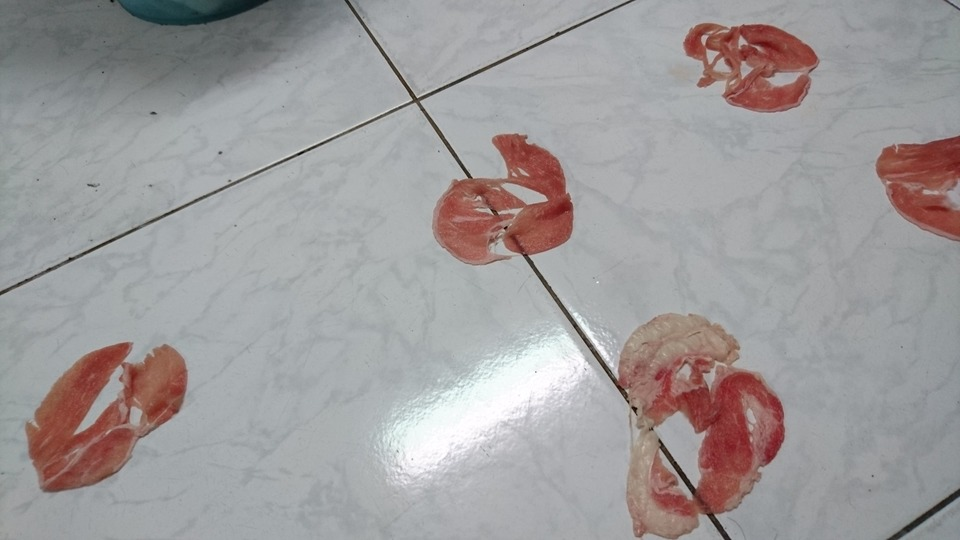restructured meat: (614, 313, 785, 540), (26, 329, 189, 497), (432, 129, 576, 268), (674, 15, 821, 113), (877, 116, 960, 248)
